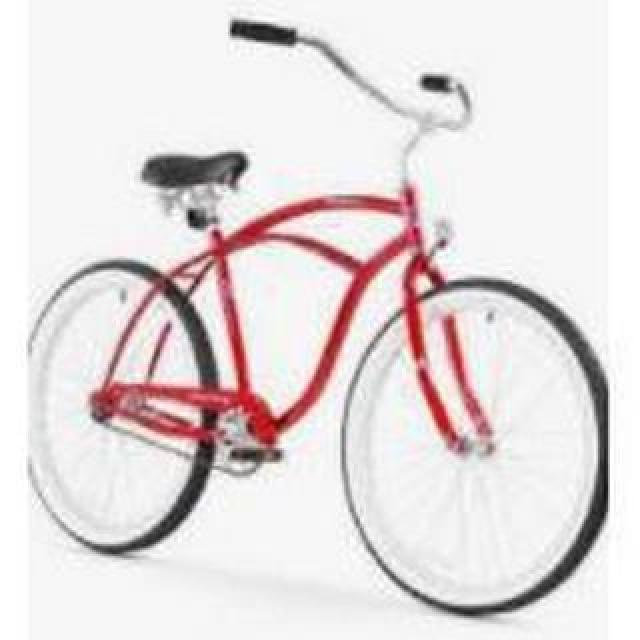Person: (32, 18, 608, 618)
